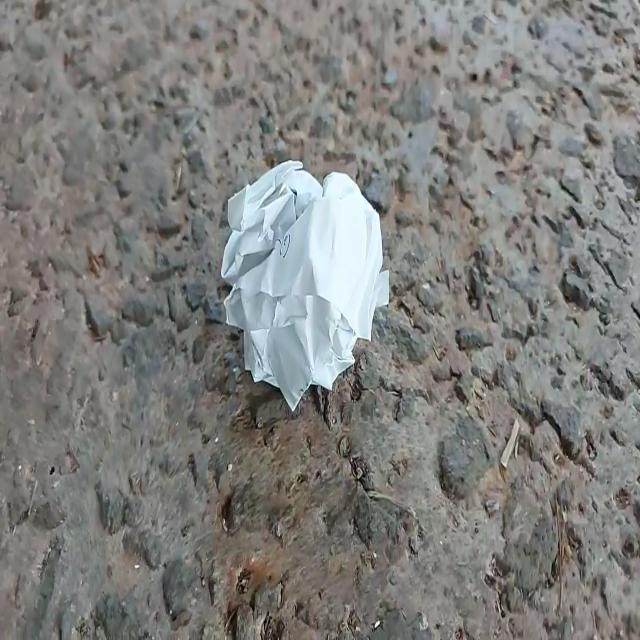paper: (204, 142, 404, 407)
